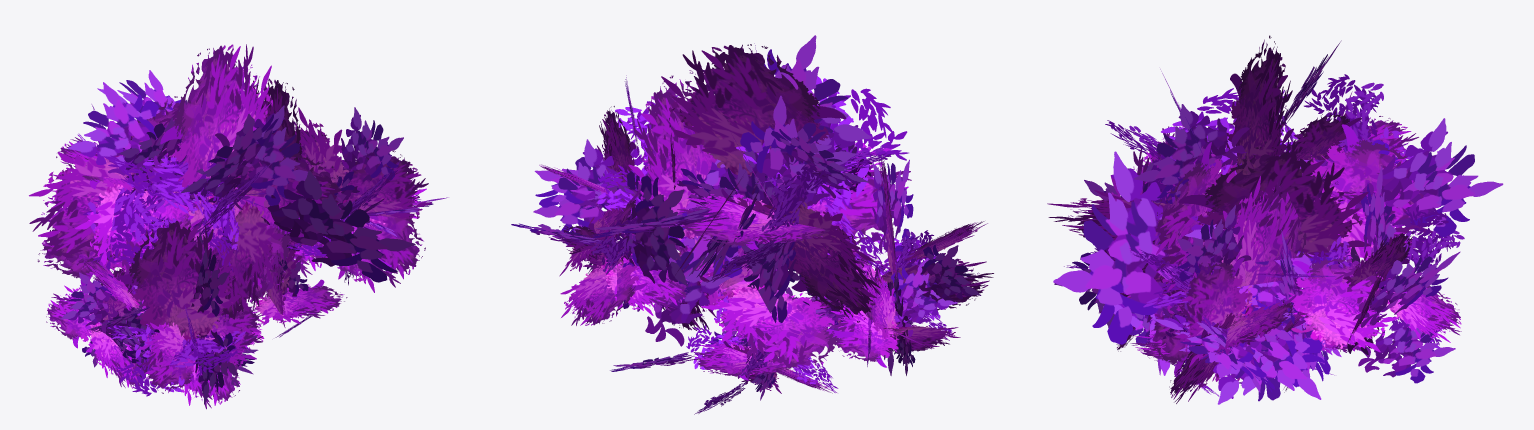
Rendered from purplebush1.fbx.
The picture shows the model from 3 angles, left to right: view 1: azimuth 30°, elevation 25°; view 2: azimuth 150°, elevation 25°; view 3: azimuth 270°, elevation 25°; orthographic projection. The views are drawn at different scales.
Visible parts, largest first — view 1: purpletree:polySurface166; view 2: purpletree:polySurface166; view 3: purpletree:polySurface166.
Boxes of the visible parts, bbox=[...] form: purpletree:polySurface166: bbox=[29, 44, 448, 409]; purpletree:polySurface166: bbox=[511, 35, 993, 414]; purpletree:polySurface166: bbox=[1047, 35, 1503, 404].
Size of the model in its own units: 16.76 by 13.56 by 15.
